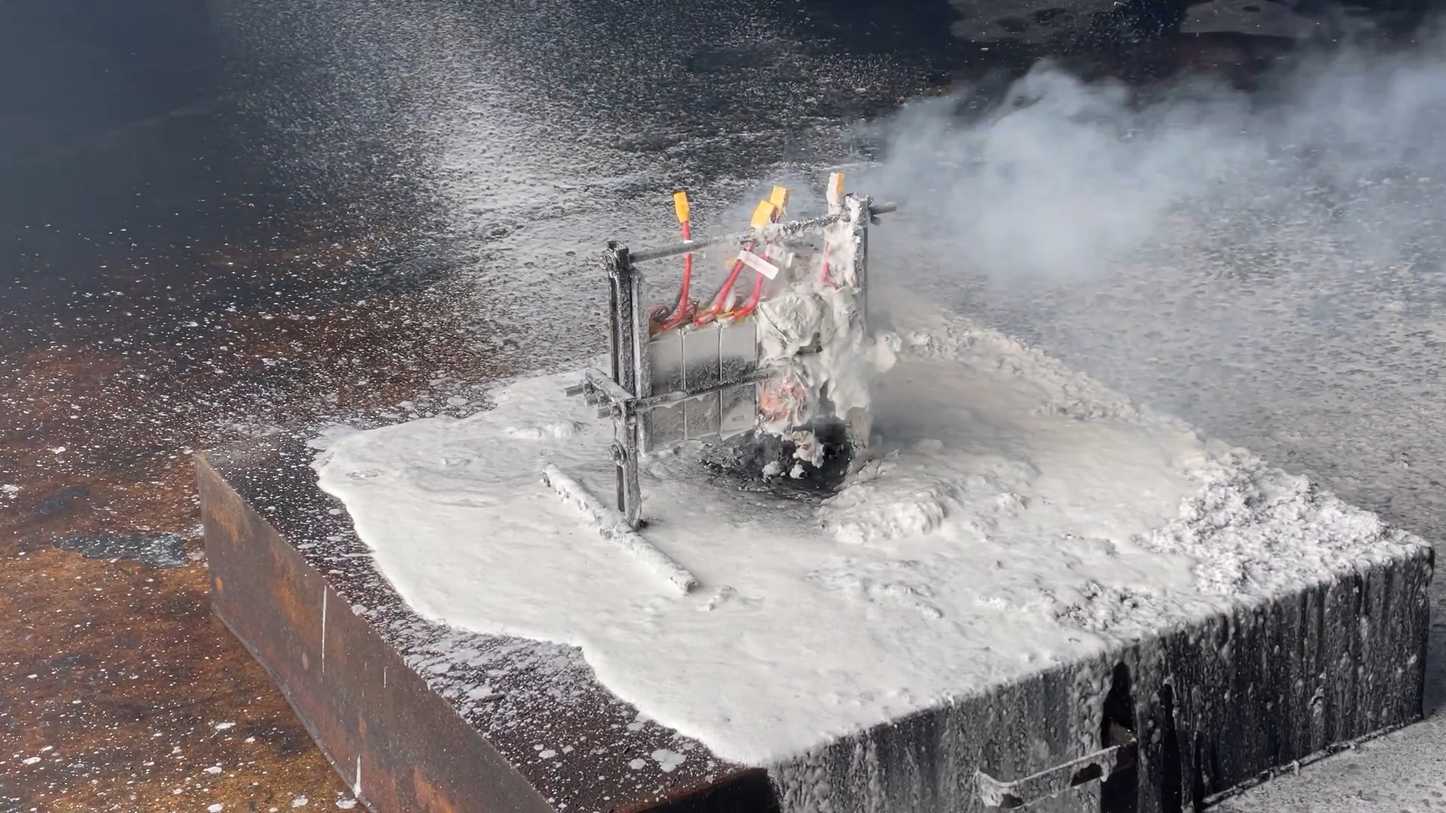smoke: (827, 24, 1445, 332)
